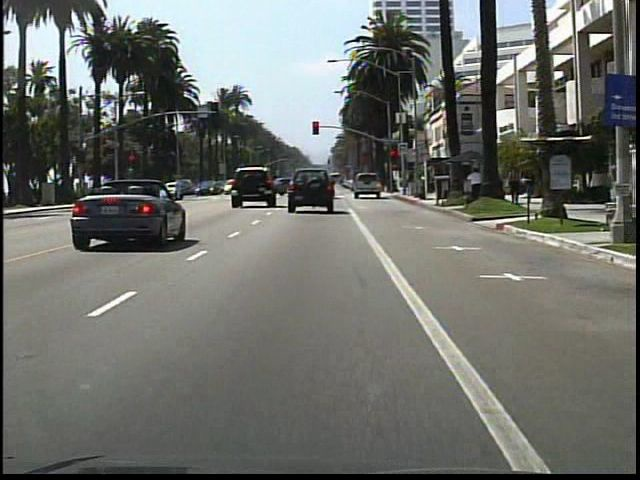person: (465, 165, 486, 205), (504, 162, 521, 208)
